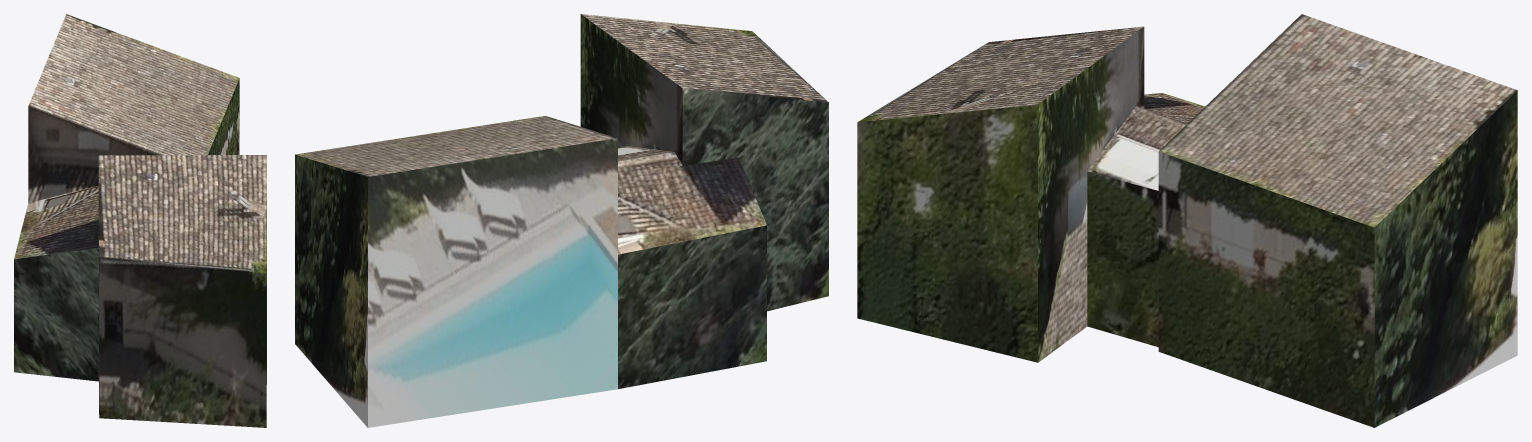
The picture shows the model from 3 angles, left to right: view 1: azimuth 30°, elevation 25°; view 2: azimuth 150°, elevation 25°; view 3: azimuth 270°, elevation 25°; orthographic projection. The views are drawn at different scales.
Visible parts, largest first — view 1: Z_UP; view 2: Z_UP; view 3: Z_UP.
Part boxes in pixels (box(x1,y1,x2,y2)): Z_UP: box(14, 14, 266, 427); Z_UP: box(295, 14, 828, 427); Z_UP: box(857, 14, 1517, 427).
Size of the model in its own units: 14.84 by 9.58 by 21.63.
2 materials, 1 textured.
